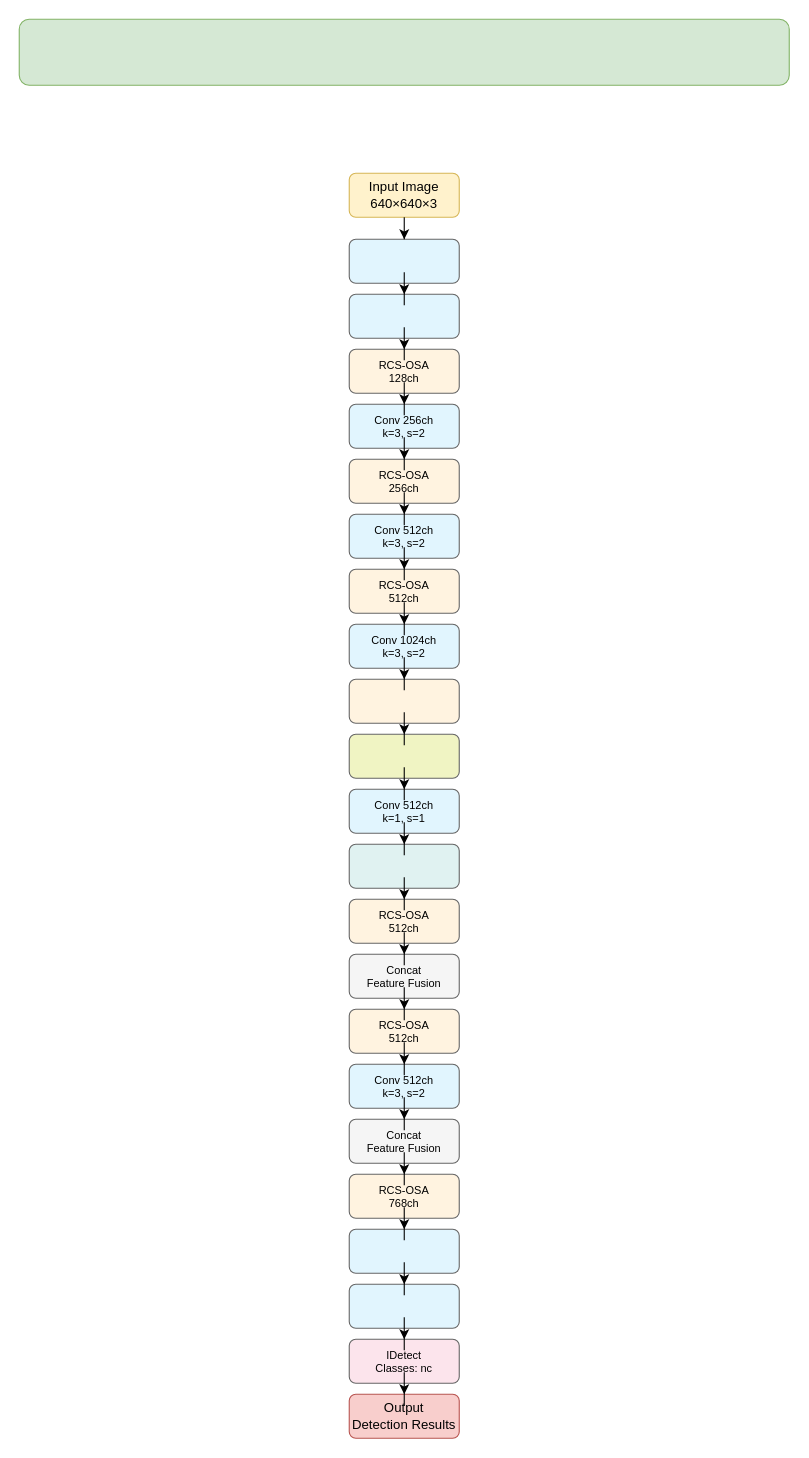
Some shapes in this 809 by 1458 pixel diagram are drawn without their labels. Each missing label, with the centre of its shape:
Conv 128ch k=3, s=2: the point at 403,315
Conv 512ch k=3, s=1: the point at 403,1250
Conv 64ch k=3, s=2: the point at 403,260
Conv 768ch k=3, s=1: the point at 403,1305
RCS-OSA 1024ch: the point at 403,700
SPPF 1024ch, k=5: the point at 403,755
Upsample ×2: the point at 403,865
YOLOv4-RCSOSA RCS-OSA模块 + 标准卷积 + IDetect检测头: the point at 403,51
